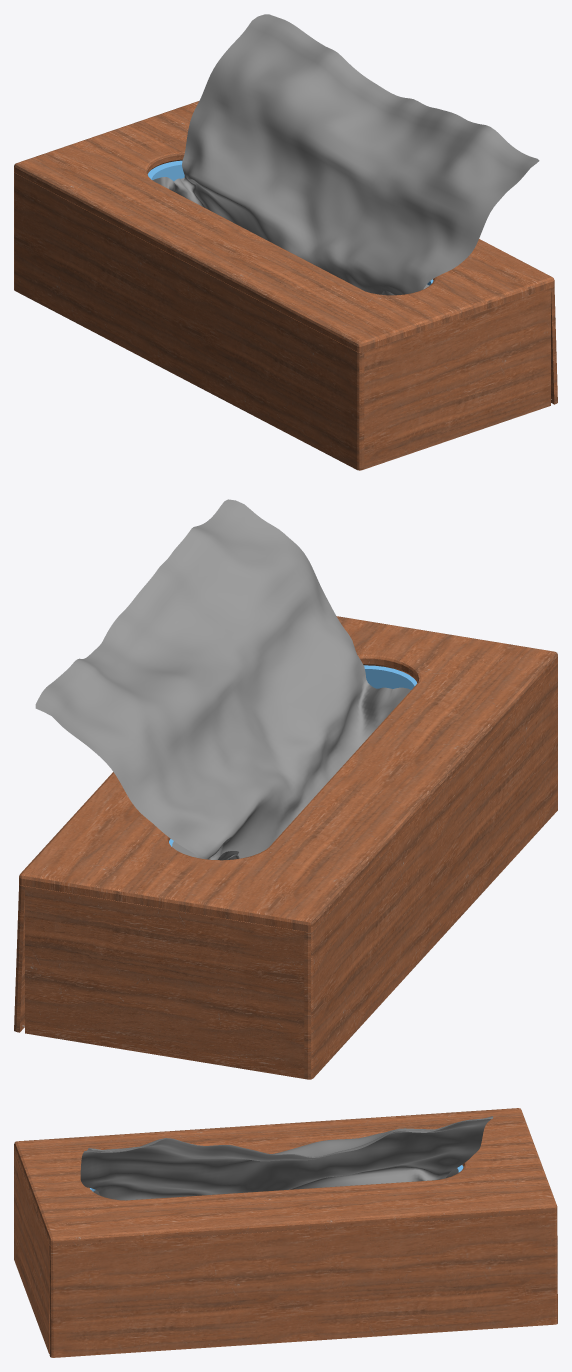
The picture shows the model from 3 angles, top to bottom: view 1: azimuth 30°, elevation 25°; view 2: azimuth 150°, elevation 25°; view 3: azimuth 270°, elevation 25°; orthographic projection. The views are drawn at different scales.
Visible parts, largest first — view 1: Paper_tissue_box_2; view 2: Paper_tissue_box_2; view 3: Paper_tissue_box_2.
Boxes of the visible parts, <box> form: Paper_tissue_box_2: <box>14,14,557,470</box>; Paper_tissue_box_2: <box>14,499,557,1079</box>; Paper_tissue_box_2: <box>14,1108,557,1357</box>.
Bounding box in the file's own units: 0.1686 × 0.1261 × 0.2871.
4 materials, 1 textured.
